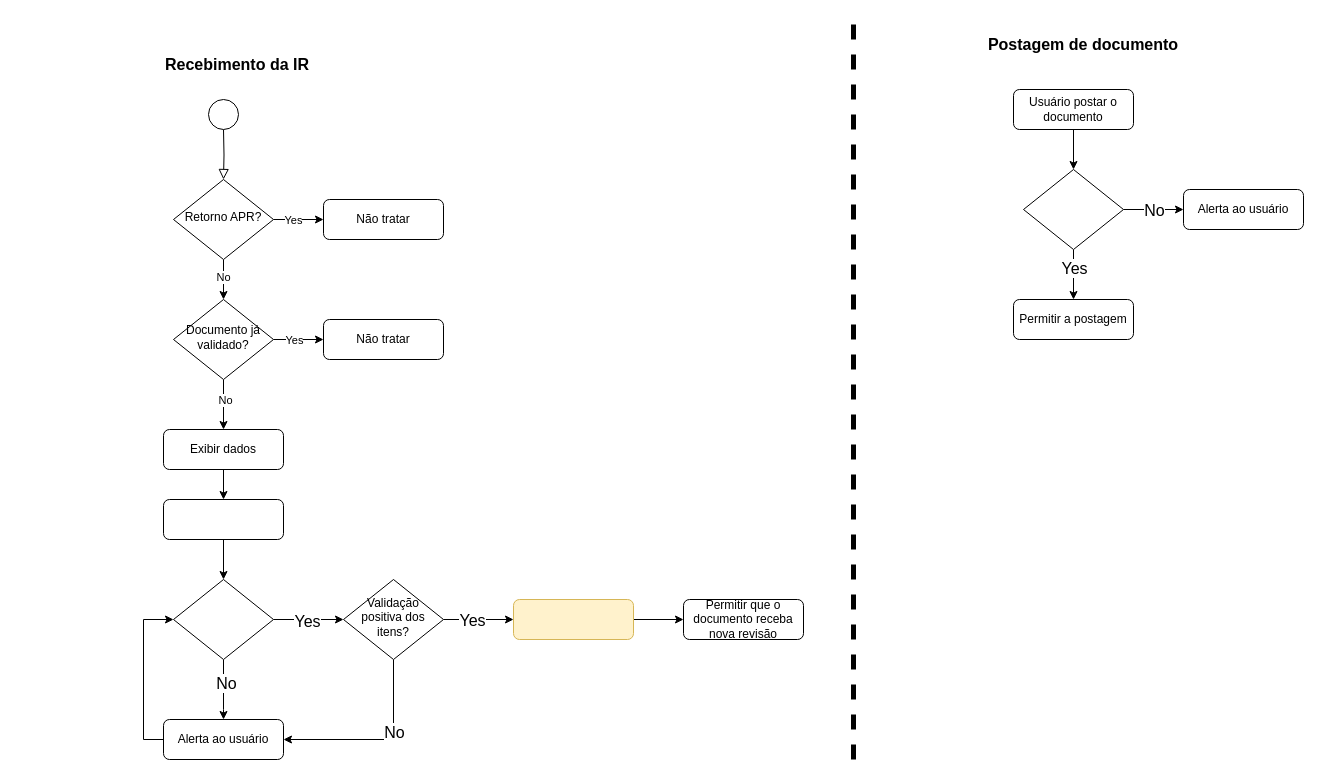
The diagram is 1321 pixels wide and 780 high, and some of its shapes have lost their labels. The centre of each missing label's shape, as x and y in pixels:
Abrir formulário de avaliação: pixel 223 519
Documento já checado?: pixel 1073 209
Formulário preenchido?: pixel 223 619
Registrar informação: pixel 573 619
Start: pixel 223 114
